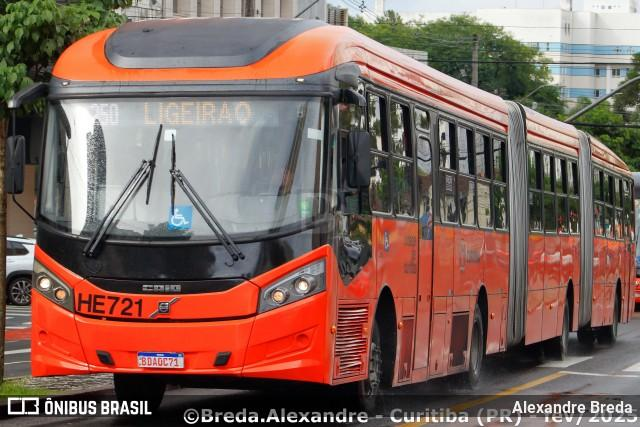LIGEIRAO: (138, 99, 262, 131)
